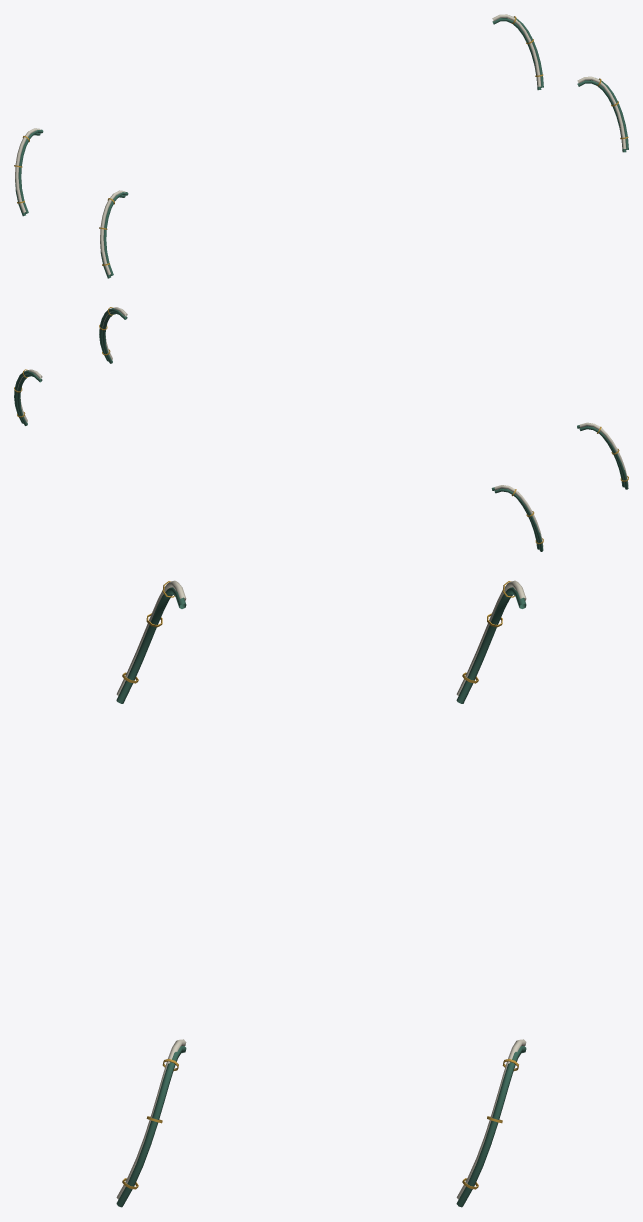
Rendered from hangar2_harness.obj.
3 renders of one model, top to bottom at view 1: azimuth 30°, elevation 25°; view 2: azimuth 150°, elevation 25°; view 3: azimuth 270°, elevation 25°, orthographic. The views are drawn at different scales.
Visible parts, largest first — view 1: hangar2_harness; view 2: hangar2_harness; view 3: hangar2_harness.
Boxes of the visible parts, box(x1,y1,x2,y2) form: hangar2_harness: box(14, 14, 628, 278); hangar2_harness: box(14, 307, 628, 551); hangar2_harness: box(116, 580, 526, 1207).
Size of the model in its own units: 9.64 by 1.25 by 3.25.
